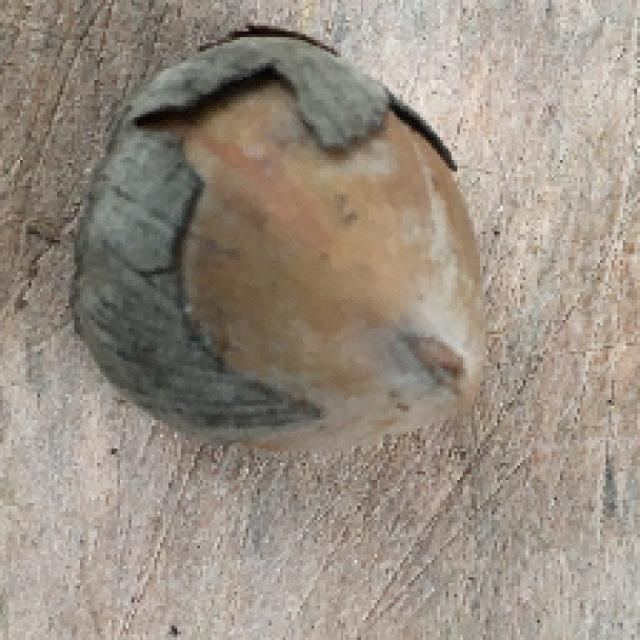damagedHazelnut: (74, 29, 489, 460)
